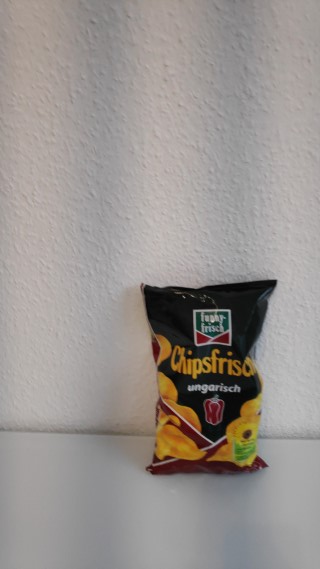chipsfrisch: (139, 278, 276, 474)
